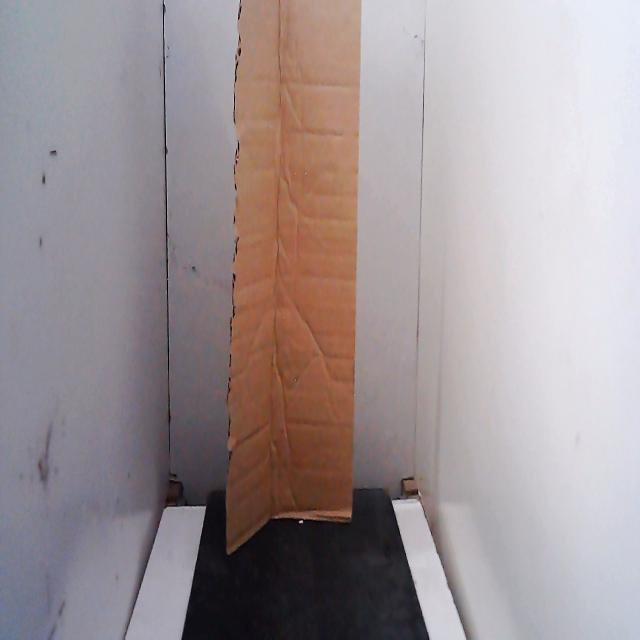paper: (192, 0, 390, 565)
